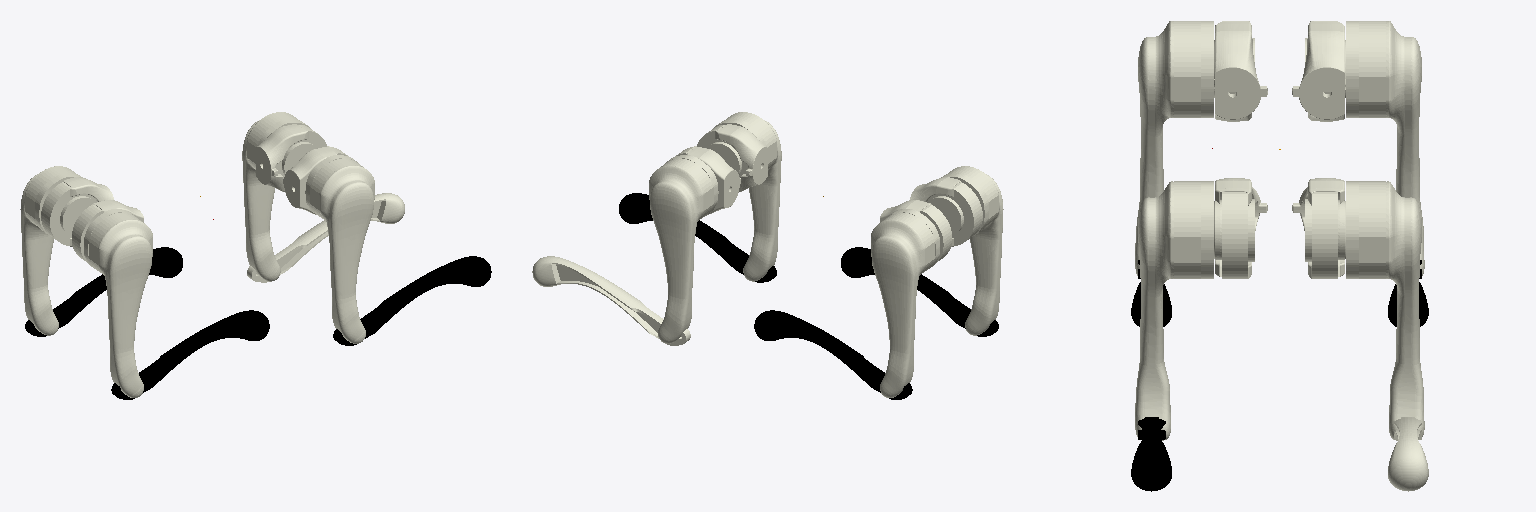
URDF robot description (go1_description):
<?xml version="1.0" ?>
<robot name="go1_description" xmlns:xacro="http://www.ros.org/wiki/xacro">
  <material name="black">
    <color rgba="0.0 0.0 0.0 1.0"/>
  </material>
  <material name="blue">
    <color rgba="0.0 0.0 0.8 1.0"/>
  </material>
  <material name="green">
    <color rgba="0.0 0.8 0.0 1.0"/>
  </material>
  <material name="grey">
    <color rgba="0.2 0.2 0.2 1.0"/>
  </material>
  <material name="silver">
    <color rgba="0.913725490196 0.913725490196 0.847058823529 1.0"/>
  </material>
  <material name="orange">
    <color rgba="1.0 0.423529411765 0.0392156862745 1.0"/>
  </material>
  <material name="brown">
    <color rgba="0.870588235294 0.811764705882 0.764705882353 1.0"/>
  </material>
  <material name="red">
    <color rgba="0.8 0.0 0.0 1.0"/>
  </material>
  <material name="white">
    <color rgba="1.0 1.0 1.0 1.0"/>
  </material>


  <link name="base">
    <visual>
      <origin rpy="0 0 0" xyz="0 0 0"/>
      <geometry>
        <box size="0.001 0.001 0.001"/>
      </geometry>
    </visual>
  </link>
  <joint name="floating_base" type="fixed">
    <origin rpy="0 0 0" xyz="0 0 0"/>
    <parent link="base"/>
    <child link="trunk"/>
  </joint>
  <link name="trunk">
    <visual>
      <origin rpy="0 0 0" xyz="0 0 0"/>
      <geometry>
        <mesh filename="../meshes/trunk.obj" scale="1 1 1"/>
      </geometry>
      <material name="silver"/>
    </visual>
    <collision>
      <origin rpy="0 0 0" xyz="0 0 0"/>
      <geometry>
        <box size="0.3762 0.0935 0.114"/>
      </geometry>
    </collision>
    <inertial>
      <origin rpy="0 0 0" xyz="0.011611 0.004437 0.000108"/>
      <mass value="4.8"/>
      <inertia ixx="0.016130741919" ixy="0.000593180607" ixz="7.324662e-06" iyy="0.036507810812" iyz="2.0969537e-05" izz="0.044693872053"/>
    </inertial>
  </link>
  <joint name="imu_joint" type="fixed">
    <parent link="trunk"/>
    <child link="imu_link"/>
    <origin rpy="0 0 0" xyz="-0.01592 -0.06659 -0.00617"/>
  </joint>
  <link name="imu_link">
    <inertial>
      <mass value="0.001"/>
      <origin rpy="0 0 0" xyz="0 0 0"/>
      <inertia ixx="0.0001" ixy="0" ixz="0" iyy="0.0001" iyz="0" izz="0.0001"/>
    </inertial>
    <visual>
      <origin rpy="0 0 0" xyz="0 0 0"/>
      <geometry>
        <box size="0.001 0.001 0.001"/>
      </geometry>
      <material name="red"/>
    </visual>
    <!-- <collision>
      <origin rpy="0 0 0" xyz="0 0 0"/>
      <geometry>
        <box size=".001 .001 .001"/>
      </geometry>
    </collision> -->
  </link>
  <joint name="FR_hip_joint" type="revolute">
    <origin rpy="0 0 0" xyz="0.1881 -0.04675 0"/>
    <parent link="trunk"/>
    <child link="FR_hip"/>
    <axis xyz="1 0 0"/>
    <dynamics damping="0" friction="0"/>
    <limit effort="33.5" lower="-0.802851455917" upper="0.802851455917" velocity="50"/>
  </joint>
  <link name="FR_hip">
    <visual>
      <origin rpy="3.14159265359 0 0" xyz="0 0 0"/>
      <geometry>
        <mesh filename="../meshes/hip.obj" scale="1 1 1"/>
      </geometry>
      <material name="silver"/>
    </visual>
    <collision>
      <origin rpy="1.57079632679 0 0" xyz="0 -0.045 0"/>
      <geometry>
        <cylinder length="0.04" radius="0.046"/>
      </geometry>
    </collision>
    <inertial>
      <origin rpy="0 0 0" xyz="-0.00541 0.00074 6e-06"/>
      <mass value="0.510299"/>
      <inertia ixx="0.00030528937" ixy="7.788013e-06" ixz="2.2016e-07" iyy="0.000590894859" iyz="1.7175e-08" izz="0.000396594572"/>
    </inertial>
  </link>
  <joint name="FR_hip_fixed" type="fixed">
    <origin rpy="0 0 0" xyz="0 -0.08 0"/>
    <parent link="FR_hip"/>
    <child link="FR_thigh_shoulder"/>
  </joint>
  <!-- this link is only for collision -->
  <link name="FR_thigh_shoulder">
    <!-- <collision>
      <origin rpy="1.57079632679 0 0" xyz="0 0 0"/>
      <geometry>
        <cylinder length="0.032" radius="0.041"/>
      </geometry>
    </collision> -->
  </link>
  <joint name="FR_thigh_joint" type="revolute">
    <origin rpy="0 0 0" xyz="0 -0.08 0"/>
    <parent link="FR_hip"/>
    <child link="FR_thigh"/>
    <axis xyz="0 1 0"/>
    <dynamics damping="0" friction="0"/>
    <limit effort="33.5" lower="-1.0471975512" upper="4.18879020479" velocity="28"/>
  </joint>
  <link name="FR_thigh">
    <visual>
      <origin rpy="0 0 0" xyz="0 0 0"/>
      <geometry>
        <mesh filename="../meshes/thigh_mirror.obj" scale="1 1 1"/>
      </geometry>
      <material name="silver"/>
    </visual>
    <collision>
      <origin rpy="0 1.57079632679 0" xyz="0 0 -0.1065"/>
      <geometry>
        <box size="0.213 0.0245 0.034"/>
      </geometry>
    </collision>
    <inertial>
      <origin rpy="0 0 0" xyz="-0.003468 0.018947 -0.032736"/>
      <mass value="0.898919"/>
      <inertia ixx="0.005395867678" ixy="-1.02809e-07" ixz="0.000337529085" iyy="0.005142451046" iyz="5.816563e-06" izz="0.00102478732"/>
    </inertial>
  </link>
  <joint name="FR_calf_joint" type="revolute">
    <origin rpy="0 0 0" xyz="0 0 -0.213"/>
    <parent link="FR_thigh"/>
    <child link="FR_calf"/>
    <axis xyz="0 1 0"/>
    <dynamics damping="0" friction="0"/>
    <limit effort="33.5" lower="-2.69653369433" upper="-0.916297857297" velocity="28"/>
  </joint>
  <link name="FR_calf">
    <visual>
      <origin rpy="0 0 0" xyz="0 0 0"/>
      <geometry>
        <mesh filename="../meshes/calf.obj" scale="1 1 1"/>
      </geometry>
      <material name="black"/>
    </visual>
    <collision>
      <origin rpy="0 1.57079632679 0" xyz="0 0 -0.1065"/>
      <geometry>
        <box size="0.213 0.016 0.016"/>
      </geometry>
    </collision>
    <inertial>
      <origin rpy="0 0 0" xyz="0.006286 0.001307 -0.122269"/>
      <mass value="0.158015"/>
      <inertia ixx="0.003607648222" ixy="1.494971e-06" ixz="-0.000132778525" iyy="0.003626771492" iyz="-2.8638535e-05" izz="3.5148003e-05"/>
    </inertial>
  </link>
  <joint name="FR_foot_fixed" type="fixed" dont_collapse="true">
    <origin rpy="0 0 0" xyz="0 0 -0.213"/>
    <parent link="FR_calf"/>
    <child link="FR_foot"/>
  </joint>
  <link name="FR_foot">
    <visual>
      <origin rpy="0 0 0" xyz="0 0 0"/>
      <geometry>
        <sphere radius="0.01"/>
      </geometry>
      <material name="black"/>
    </visual>
    <collision>
      <origin rpy="0 0 0" xyz="0 0 0"/>
      <geometry>
        <sphere radius="0.02"/>
      </geometry>
    </collision>
    <inertial>
      <mass value="0.06"/>
      <inertia ixx="9.6e-06" ixy="0.0" ixz="0.0" iyy="9.6e-06" iyz="0.0" izz="9.6e-06"/>
    </inertial>
  </link>

  <joint name="FL_hip_joint" type="revolute">
    <origin rpy="0 0 0" xyz="0.1881 0.04675 0"/>
    <parent link="trunk"/>
    <child link="FL_hip"/>
    <axis xyz="1 0 0"/>
    <dynamics damping="0" friction="0"/>
    <limit effort="33.5" lower="-0.802851455917" upper="0.802851455917" velocity="50"/>
  </joint>
  <link name="FL_hip">
    <visual>
      <origin rpy="0 0 0" xyz="0 0 0"/>
      <geometry>
        <mesh filename="../meshes/hip.obj" scale="1 1 1"/>
      </geometry>
      <material name="silver"/>
    </visual>
    <collision>
      <origin rpy="1.57079632679 0 0" xyz="0 0.045 0"/>
      <geometry>
        <cylinder length="0.04" radius="0.046"/>
      </geometry>
    </collision>
    <inertial>
      <origin rpy="0 0 0" xyz="-0.00541 -0.00074 6e-06"/>
      <mass value="0.510299"/>
      <inertia ixx="0.00030528937" ixy="-7.788013e-06" ixz="2.2016e-07" iyy="0.000590894859" iyz="-1.7175e-08" izz="0.000396594572"/>
    </inertial>
  </link>
  <joint name="FL_hip_fixed" type="fixed">
    <origin rpy="0 0 0" xyz="0 0.08 0"/>
    <parent link="FL_hip"/>
    <child link="FL_thigh_shoulder"/>
  </joint>
  <!-- this link is only for collision -->
  <link name="FL_thigh_shoulder">
    <!-- <collision>
      <origin rpy="1.57079632679 0 0" xyz="0 0 0"/>
      <geometry>
        <cylinder length="0.032" radius="0.041"/>
      </geometry>
    </collision>  -->
  </link>
  <joint name="FL_thigh_joint" type="revolute">
    <origin rpy="0 0 0" xyz="0 0.08 0"/>
    <parent link="FL_hip"/>
    <child link="FL_thigh"/>
    <axis xyz="0 1 0"/>
    <dynamics damping="0" friction="0"/>
    <limit effort="33.5" lower="-1.0471975512" upper="4.18879020479" velocity="28"/>
  </joint>
  <link name="FL_thigh">
    <visual>
      <origin rpy="0 0 0" xyz="0 0 0"/>
      <geometry>
        <mesh filename="../meshes/thigh.obj" scale="1 1 1"/>
      </geometry>
      <material name="silver"/>
    </visual>
    <collision>
      <origin rpy="0 1.57079632679 0" xyz="0 0 -0.1065"/>
      <geometry>
        <box size="0.213 0.0245 0.034"/>
      </geometry>
    </collision>
    <inertial>
      <origin rpy="0 0 0" xyz="-0.003468 -0.018947 -0.032736"/>
      <mass value="0.898919"/>
      <inertia ixx="0.005395867678" ixy="1.02809e-07" ixz="0.000337529085" iyy="0.005142451046" iyz="-5.816563e-06" izz="0.00102478732"/>
    </inertial>
  </link>
  <joint name="FL_calf_joint" type="revolute">
    <origin rpy="0 0 0" xyz="0 0 -0.213"/>
    <parent link="FL_thigh"/>
    <child link="FL_calf"/>
    <axis xyz="0 1 0"/>
    <dynamics damping="0" friction="0"/>
    <limit effort="33.5" lower="-2.69653369433" upper="-0.916297857297" velocity="28"/>
  </joint>
  <link name="FL_calf">
    <visual>
      <origin rpy="0 0 0" xyz="0 0 0"/>
      <geometry>
        <mesh filename="../meshes/calf.obj" scale="1 1 1"/>
      </geometry>
      <material name="silver"/>
    </visual>
    <collision>
      <origin rpy="0 1.57079632679 0" xyz="0 0 -0.1065"/>
      <geometry>
        <box size="0.213 0.016 0.016"/>
      </geometry>
    </collision>
    <inertial>
      <origin rpy="0 0 0" xyz="0.006286 0.001307 -0.122269"/>
      <mass value="0.158015"/>
      <inertia ixx="0.003607648222" ixy="1.494971e-06" ixz="-0.000132778525" iyy="0.003626771492" iyz="-2.8638535e-05" izz="3.5148003e-05"/>
    </inertial>
  </link>
  <joint name="FL_foot_fixed" type="fixed" dont_collapse="true">
    <origin rpy="0 0 0" xyz="0 0 -0.213"/>
    <parent link="FL_calf"/>
    <child link="FL_foot"/>
  </joint>
  <link name="FL_foot">
    <visual>
      <origin rpy="0 0 0" xyz="0 0 0"/>
      <geometry>
        <sphere radius="0.01"/>
      </geometry>
      <material name="black"/>
    </visual>
    <collision>
      <origin rpy="0 0 0" xyz="0 0 0"/>
      <geometry>
        <sphere radius="0.02"/>
      </geometry>
    </collision>
    <inertial>
      <mass value="0.06"/>
      <inertia ixx="9.6e-06" ixy="0.0" ixz="0.0" iyy="9.6e-06" iyz="0.0" izz="9.6e-06"/>
    </inertial>
  </link>

  <joint name="RR_hip_joint" type="revolute">
    <origin rpy="0 0 0" xyz="-0.1881 -0.04675 0"/>
    <parent link="trunk"/>
    <child link="RR_hip"/>
    <axis xyz="1 0 0"/>
    <dynamics damping="0" friction="0"/>
    <limit effort="33.5" lower="-0.802851455917" upper="0.802851455917" velocity="50"/>
  </joint>
  <link name="RR_hip">
    <visual>
      <origin rpy="3.14159265359 3.14159265359 0" xyz="0 0 0"/>
      <geometry>
        <mesh filename="../meshes/hip.obj" scale="1 1 1"/>
      </geometry>
      <material name="silver"/>
    </visual>
    <collision>
      <origin rpy="1.57079632679 0 0" xyz="0 -0.045 0"/>
      <geometry>
        <cylinder length="0.04" radius="0.046"/>
      </geometry>
    </collision>
    <inertial>
      <origin rpy="0 0 0" xyz="0.00541 0.00074 6e-06"/>
      <mass value="0.510299"/>
      <inertia ixx="0.00030528937" ixy="-7.788013e-06" ixz="-2.2016e-07" iyy="0.000590894859" iyz="1.7175e-08" izz="0.000396594572"/>
    </inertial>
  </link>
  <joint name="RR_hip_fixed" type="fixed">
    <origin rpy="0 0 0" xyz="0 -0.08 0"/>
    <parent link="RR_hip"/>
    <child link="RR_thigh_shoulder"/>
  </joint>
  <!-- this link is only for collision -->
  <link name="RR_thigh_shoulder">
    <!-- <collision>
      <origin rpy="1.57079632679 0 0" xyz="0 0 0"/>
      <geometry>
        <cylinder length="0.032" radius="0.041"/>
      </geometry>
    </collision> -->
  </link>
  <joint name="RR_thigh_joint" type="revolute">
    <origin rpy="0 0 0" xyz="0 -0.08 0"/>
    <parent link="RR_hip"/>
    <child link="RR_thigh"/>
    <axis xyz="0 1 0"/>
    <dynamics damping="0" friction="0"/>
    <limit effort="33.5" lower="-1.0471975512" upper="4.18879020479" velocity="28"/>
  </joint>
  <link name="RR_thigh">
    <visual>
      <origin rpy="0 0 0" xyz="0 0 0"/>
      <geometry>
        <mesh filename="../meshes/thigh_mirror.obj" scale="1 1 1"/>
      </geometry>
      <material name="silver"/>
    </visual>
    <collision>
      <origin rpy="0 1.57079632679 0" xyz="0 0 -0.1065"/>
      <geometry>
        <box size="0.213 0.0245 0.034"/>
      </geometry>
    </collision>
    <inertial>
      <origin rpy="0 0 0" xyz="-0.003468 0.018947 -0.032736"/>
      <mass value="0.898919"/>
      <inertia ixx="0.005395867678" ixy="-1.02809e-07" ixz="0.000337529085" iyy="0.005142451046" iyz="5.816563e-06" izz="0.00102478732"/>
    </inertial>
  </link>
  <joint name="RR_calf_joint" type="revolute">
    <origin rpy="0 0 0" xyz="0 0 -0.213"/>
    <parent link="RR_thigh"/>
    <child link="RR_calf"/>
    <axis xyz="0 1 0"/>
    <dynamics damping="0" friction="0"/>
    <limit effort="33.5" lower="-2.69653369433" upper="-0.916297857297" velocity="28"/>
  </joint>
  <link name="RR_calf">
    <visual>
      <origin rpy="0 0 0" xyz="0 0 0"/>
      <geometry>
        <mesh filename="../meshes/calf.obj" scale="1 1 1"/>
      </geometry>
      <material name="black"/>
    </visual>
    <collision>
      <origin rpy="0 1.57079632679 0" xyz="0 0 -0.1065"/>
      <geometry>
        <box size="0.213 0.016 0.016"/>
      </geometry>
    </collision>
    <inertial>
      <origin rpy="0 0 0" xyz="0.006286 0.001307 -0.122269"/>
      <mass value="0.158015"/>
      <inertia ixx="0.003607648222" ixy="1.494971e-06" ixz="-0.000132778525" iyy="0.003626771492" iyz="-2.8638535e-05" izz="3.5148003e-05"/>
    </inertial>
  </link>
  <joint name="RR_foot_fixed" type="fixed" dont_collapse="true">
    <origin rpy="0 0 0" xyz="0 0 -0.213"/>
    <parent link="RR_calf"/>
    <child link="RR_foot"/>
  </joint>
  <link name="RR_foot">
    <visual>
      <origin rpy="0 0 0" xyz="0 0 0"/>
      <geometry>
        <sphere radius="0.01"/>
      </geometry>
      <material name="black"/>
    </visual>
    <collision>
      <origin rpy="0 0 0" xyz="0 0 0"/>
      <geometry>
        <sphere radius="0.02"/>
      </geometry>
    </collision>
    <inertial>
      <mass value="0.06"/>
      <inertia ixx="9.6e-06" ixy="0.0" ixz="0.0" iyy="9.6e-06" iyz="0.0" izz="9.6e-06"/>
    </inertial>
  </link>

  <joint name="RL_hip_joint" type="revolute">
    <origin rpy="0 0 0" xyz="-0.1881 0.04675 0"/>
    <parent link="trunk"/>
    <child link="RL_hip"/>
    <axis xyz="1 0 0"/>
    <dynamics damping="0" friction="0"/>
    <limit effort="33.5" lower="-0.802851455917" upper="0.802851455917" velocity="50"/>
  </joint>
  <link name="RL_hip">
    <visual>
      <origin rpy="0 3.14159265359 0" xyz="0 0 0"/>
      <geometry>
        <mesh filename="../meshes/hip.obj" scale="1 1 1"/>
      </geometry>
      <material name="silver"/>
    </visual>
    <collision>
      <origin rpy="1.57079632679 0 0" xyz="0 0.045 0"/>
      <geometry>
        <cylinder length="0.04" radius="0.046"/>
      </geometry>
    </collision>
    <inertial>
      <origin rpy="0 0 0" xyz="0.00541 -0.00074 6e-06"/>
      <mass value="0.510299"/>
      <inertia ixx="0.00030528937" ixy="7.788013e-06" ixz="-2.2016e-07" iyy="0.000590894859" iyz="-1.7175e-08" izz="0.000396594572"/>
    </inertial>
  </link>
  <joint name="RL_hip_fixed" type="fixed">
    <origin rpy="0 0 0" xyz="0 0.08 0"/>
    <parent link="RL_hip"/>
    <child link="RL_thigh_shoulder"/>
  </joint>
  <!-- this link is only for collision -->
  <link name="RL_thigh_shoulder">
    <!-- <collision>
      <origin rpy="1.57079632679 0 0" xyz="0 0 0"/>
      <geometry>
        <cylinder length="0.032" radius="0.041"/>
      </geometry>
    </collision> -->
  </link>
  <joint name="RL_thigh_joint" type="revolute">
    <origin rpy="0 0 0" xyz="0 0.08 0"/>
    <parent link="RL_hip"/>
    <child link="RL_thigh"/>
    <axis xyz="0 1 0"/>
    <dynamics damping="0" friction="0"/>
    <limit effort="33.5" lower="-1.0471975512" upper="4.18879020479" velocity="28"/>
  </joint>
  <link name="RL_thigh">
    <visual>
      <origin rpy="0 0 0" xyz="0 0 0"/>
      <geometry>
        <mesh filename="../meshes/thigh.obj" scale="1 1 1"/>
      </geometry>
      <material name="silver"/>
    </visual>
    <collision>
      <origin rpy="0 1.57079632679 0" xyz="0 0 -0.1065"/>
      <geometry>
        <box size="0.213 0.0245 0.034"/>
      </geometry>
    </collision>
    <inertial>
      <origin rpy="0 0 0" xyz="-0.003468 -0.018947 -0.032736"/>
      <mass value="0.898919"/>
      <inertia ixx="0.005395867678" ixy="1.02809e-07" ixz="0.000337529085" iyy="0.005142451046" iyz="-5.816563e-06" izz="0.00102478732"/>
    </inertial>
  </link>
  <joint name="RL_calf_joint" type="revolute">
    <origin rpy="0 0 0" xyz="0 0 -0.213"/>
    <parent link="RL_thigh"/>
    <child link="RL_calf"/>
    <axis xyz="0 1 0"/>
    <dynamics damping="0" friction="0"/>
    <limit effort="33.5" lower="-2.69653369433" upper="-0.916297857297" velocity="28"/>
  </joint>
  <link name="RL_calf">
    <visual>
      <origin rpy="0 0 0" xyz="0 0 0"/>
      <geometry>
        <mesh filename="../meshes/calf.obj" scale="1 1 1"/>
      </geometry>
      <material name="black"/>
    </visual>
    <collision>
      <origin rpy="0 1.57079632679 0" xyz="0 0 -0.1065"/>
      <geometry>
        <box size="0.213 0.016 0.016"/>
      </geometry>
    </collision>
    <inertial>
      <origin rpy="0 0 0" xyz="0.006286 0.001307 -0.122269"/>
      <mass value="0.158015"/>
      <inertia ixx="0.003607648222" ixy="1.494971e-06" ixz="-0.000132778525" iyy="0.003626771492" iyz="-2.8638535e-05" izz="3.5148003e-05"/>
    </inertial>
  </link>
  <joint name="RL_foot_fixed" type="fixed" dont_collapse="true">
    <origin rpy="0 0 0" xyz="0 0 -0.213"/>
    <parent link="RL_calf"/>
    <child link="RL_foot"/>
  </joint>
  <link name="RL_foot">
    <visual>
      <origin rpy="0 0 0" xyz="0 0 0"/>
      <geometry>
        <sphere radius="0.01"/>
      </geometry>
      <material name="black"/>
    </visual>
    <collision>
      <origin rpy="0 0 0" xyz="0 0 0"/>
      <geometry>
        <sphere radius="0.02"/>
      </geometry>
    </collision>
    <inertial>
      <mass value="0.06"/>
      <inertia ixx="9.6e-06" ixy="0.0" ixz="0.0" iyy="9.6e-06" iyz="0.0" izz="9.6e-06"/>
    </inertial>
  </link>
 </robot>

--- Render facts (derived) ---
3 views of the same robot in one strip: view 1: azimuth 30°, elevation 25°; view 2: azimuth 150°, elevation 25°; view 3: azimuth 270°, elevation 25° (orthographic).
Model go1_description with 23 links and 22 joints (12 revolute, 10 fixed), rooted at base, posed joints at zero except 4 at the middle of their limits (FR_calf_joint = -1.81, FL_calf_joint = -1.81, RR_calf_joint = -1.81, RL_calf_joint = -1.81).
Links seen in each view (by area): view 1: FR_thigh, RR_thigh, RL_thigh, FL_thigh, FR_calf, RR_calf, RL_hip, FL_hip, FL_calf, RL_calf, FR_hip, RR_hip; view 2: FL_thigh, RL_thigh, RR_thigh, FR_thigh, FL_calf, RL_calf, RR_hip, FR_hip, FR_calf, RR_calf, FL_hip, RL_hip; view 3: FR_thigh, FL_thigh, RR_thigh, RL_thigh, FR_hip, FL_hip, RR_hip, RL_hip, FR_calf, FL_calf, RR_calf, RL_calf.
Link boxes in pixels (bbox=[...]): FR_thigh: bbox=[305, 155, 374, 343]; RR_thigh: bbox=[84, 209, 152, 397]; RL_thigh: bbox=[20, 166, 82, 335]; FL_thigh: bbox=[242, 112, 309, 281]; FR_calf: bbox=[333, 256, 491, 345]; RR_calf: bbox=[111, 310, 269, 399]; RL_hip: bbox=[41, 177, 113, 246]; FL_hip: bbox=[256, 124, 326, 192]; FL_calf: bbox=[247, 193, 404, 282]; RL_calf: bbox=[25, 247, 182, 336]; FR_hip: bbox=[283, 146, 347, 214]; RR_hip: bbox=[72, 200, 143, 263]; FL_thigh: bbox=[649, 155, 718, 343]; RL_thigh: bbox=[871, 209, 939, 397]; RR_thigh: bbox=[941, 166, 1003, 335]; FR_thigh: bbox=[714, 112, 781, 281]; FL_calf: bbox=[532, 256, 690, 345]; RL_calf: bbox=[754, 310, 912, 399]; RR_hip: bbox=[910, 177, 982, 246]; FR_hip: bbox=[697, 124, 767, 192]; FR_calf: bbox=[619, 193, 776, 282]; RR_calf: bbox=[841, 247, 998, 336]; FL_hip: bbox=[676, 146, 740, 214]; RL_hip: bbox=[880, 200, 951, 263]; FR_thigh: bbox=[1135, 181, 1213, 440]; FL_thigh: bbox=[1346, 181, 1424, 440]; RR_thigh: bbox=[1135, 21, 1213, 275]; RL_thigh: bbox=[1346, 21, 1424, 275]; FR_hip: bbox=[1214, 178, 1267, 278]; FL_hip: bbox=[1292, 178, 1345, 278]; RR_hip: bbox=[1214, 21, 1267, 121]; RL_hip: bbox=[1292, 21, 1345, 121]; FR_calf: bbox=[1131, 417, 1171, 491]; FL_calf: bbox=[1388, 417, 1428, 491]; RR_calf: bbox=[1131, 260, 1171, 326]; RL_calf: bbox=[1388, 260, 1428, 326].
Size in the robot's own frame: 0.6536 by 0.294 by 0.2794 metres.
12 mesh visuals loaded from 5 distinct referenced files (4 OBJ); not drawn: 1 (reference not matched to a file when rendering).